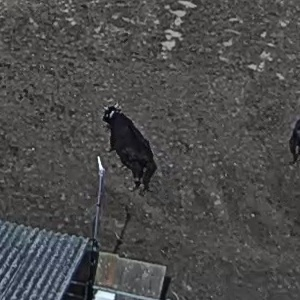cow: (100, 93, 165, 202)
